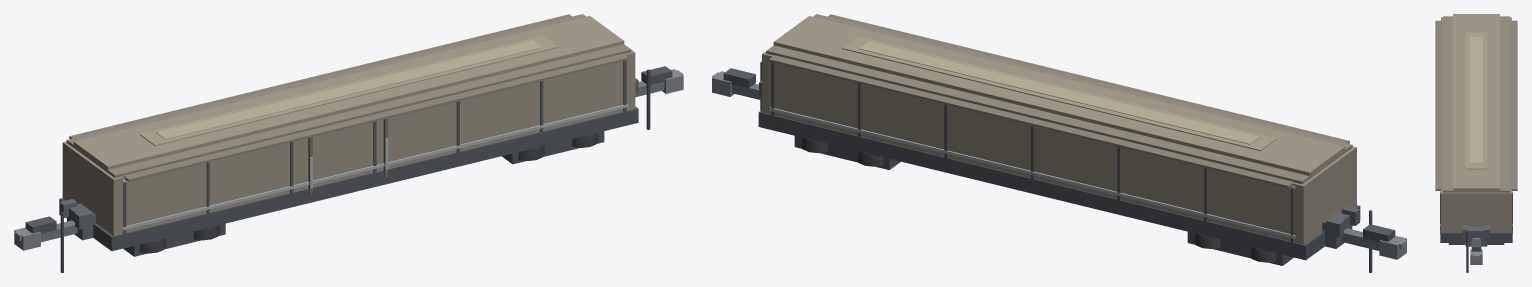
Rendered from cargo.glb.
3 views of the same model, side by side, from view 1: azimuth 30°, elevation 25°; view 2: azimuth 150°, elevation 25°; view 3: azimuth 270°, elevation 25° (orthographic). The views are drawn at different scales.
Parts seen in each view (by area): view 1: cargo; view 2: cargo; view 3: cargo.
Part boxes in pixels (box(x1,y1,x2,y2)): cargo: box(14, 14, 683, 272); cargo: box(712, 14, 1406, 272); cargo: box(1435, 14, 1517, 272).
Bounding box in the file's own units: 24.68 × 3.77 × 3.82.
